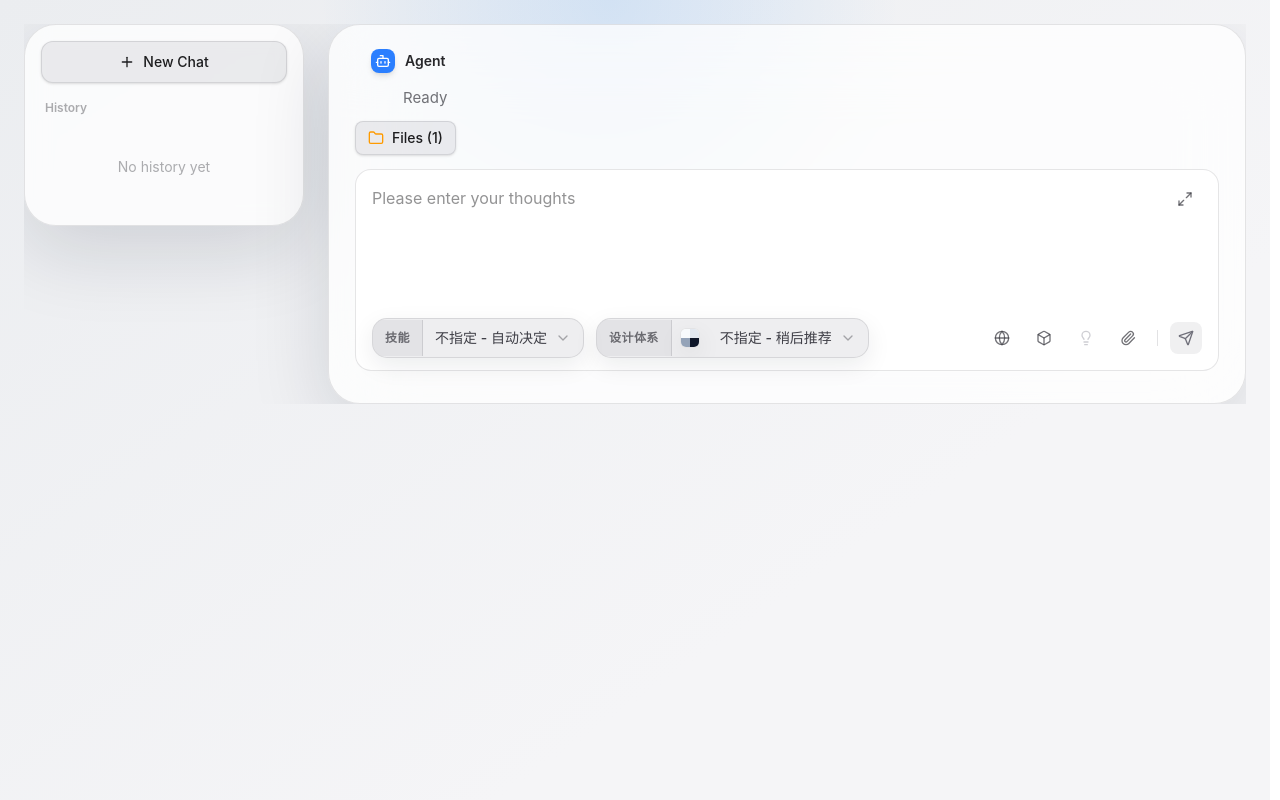
it: ChatHomePage previews › opens plain text session files in the side preview panel
The width and height of the screenshot is (1280, 800).
Step 1. Click the button "Files (1)" → click(406, 138), box x1=355 y1=120 x2=456 y2=154
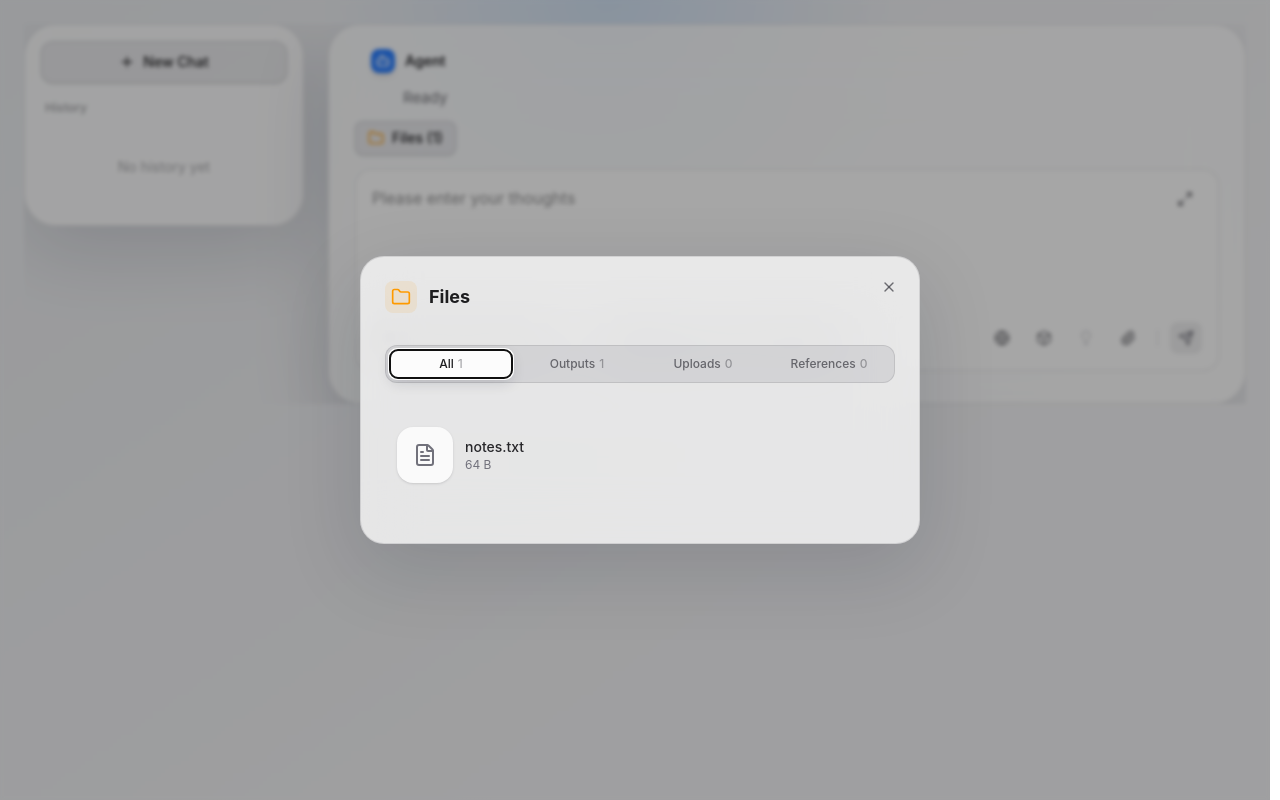
Step 2. Click the text "notes.txt" → click(495, 446), box x1=465 y1=438 x2=524 y2=455
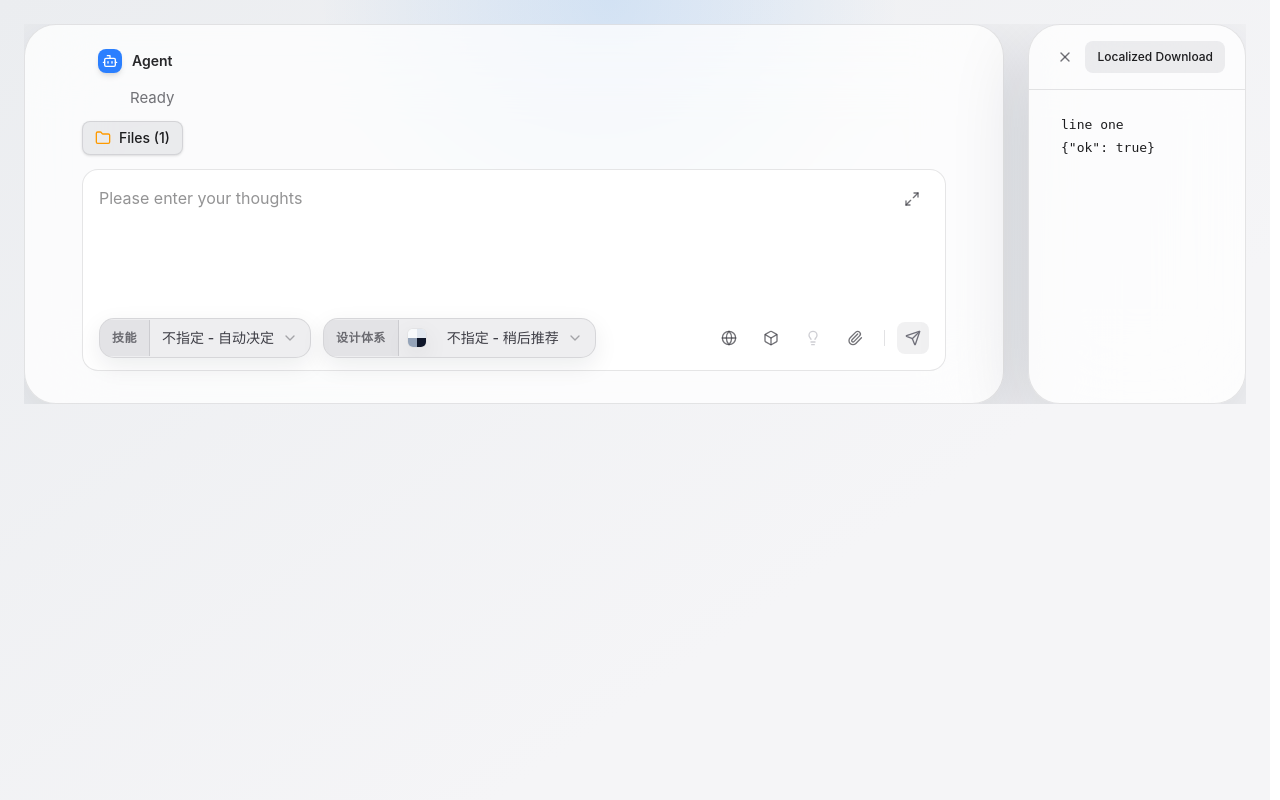
Expected: the element with test id "home-chat-text-preview" is shown, x1=1028 y1=24 x2=1246 y2=404
Expected: the text "line one {\"ok\": true}" is shown, x1=1061 y1=117 x2=1155 y2=155
